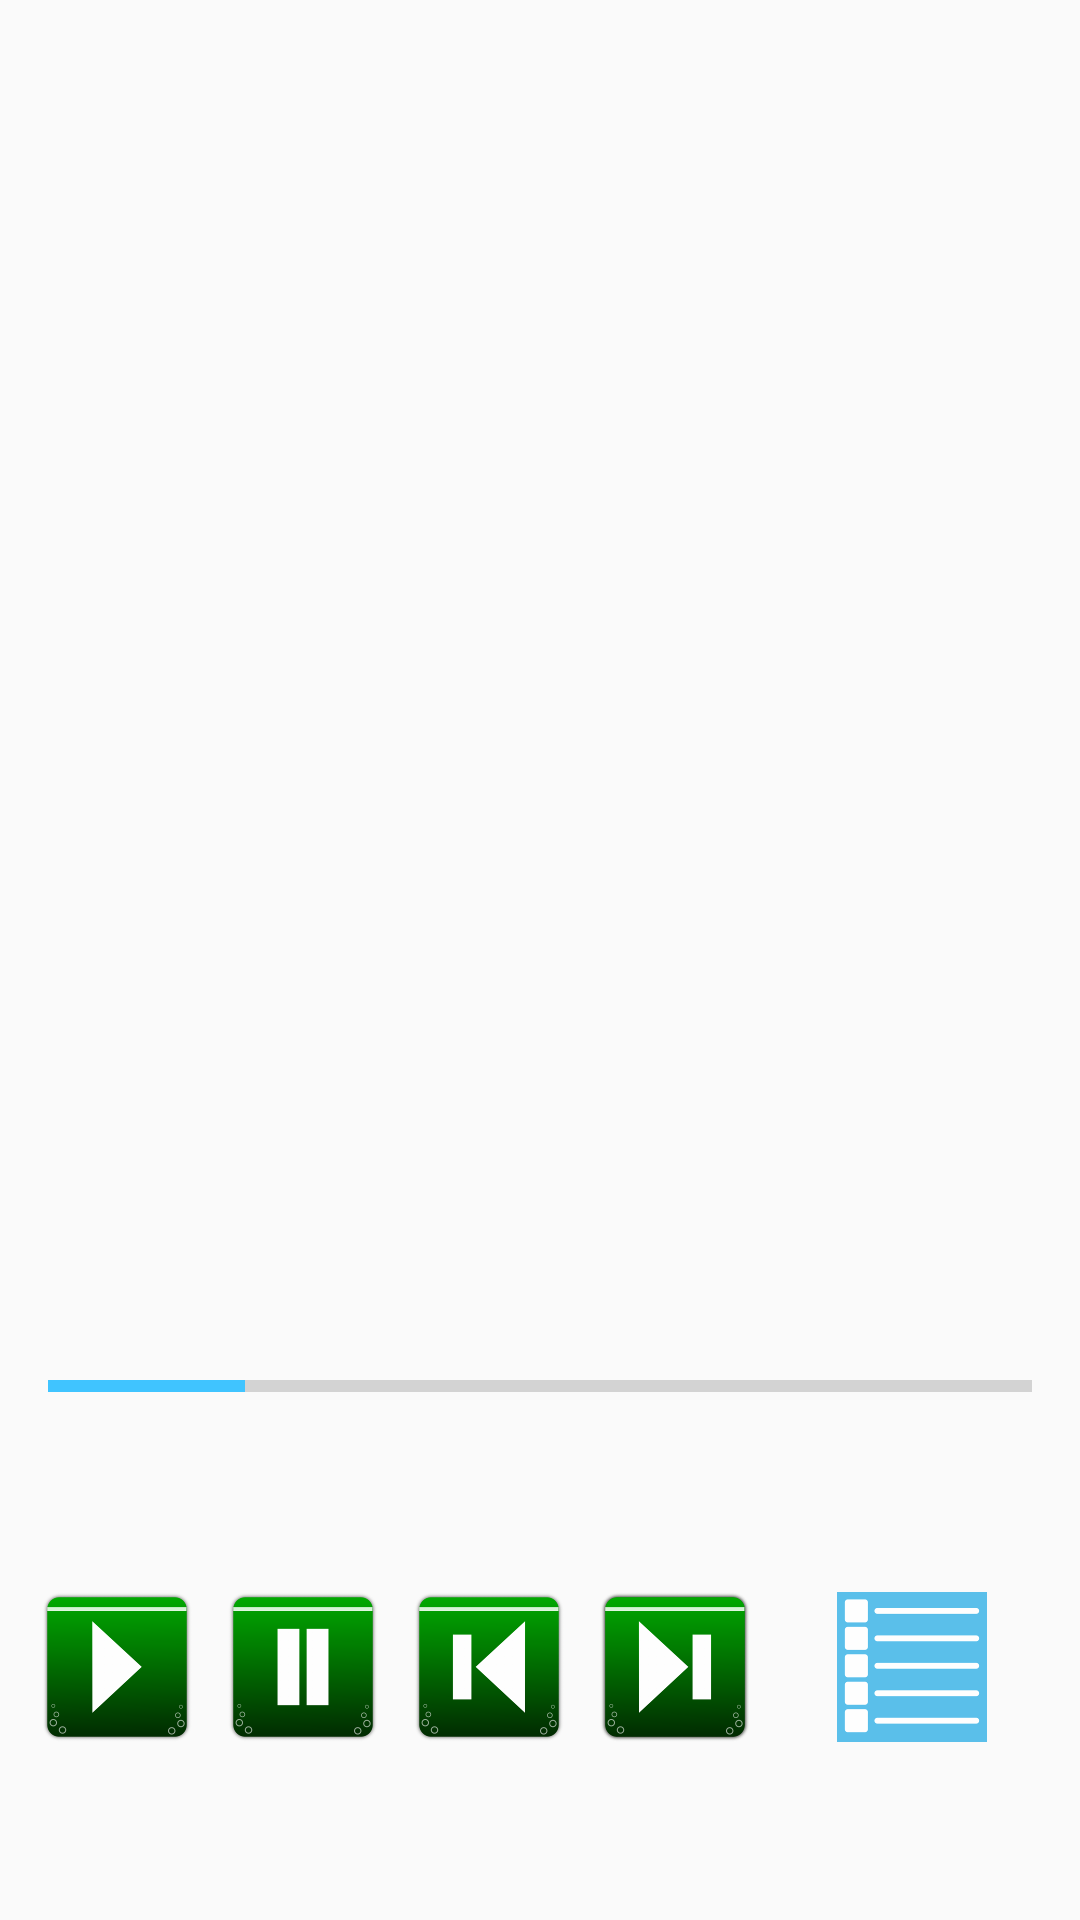

Where to tap for icons on this 1080w x 1920h app screen, as point (x, y):
next track: point (675, 1667)
pause: point (303, 1667)
play: point (117, 1667)
playlist: point (912, 1667)
previous track: point (489, 1667)
